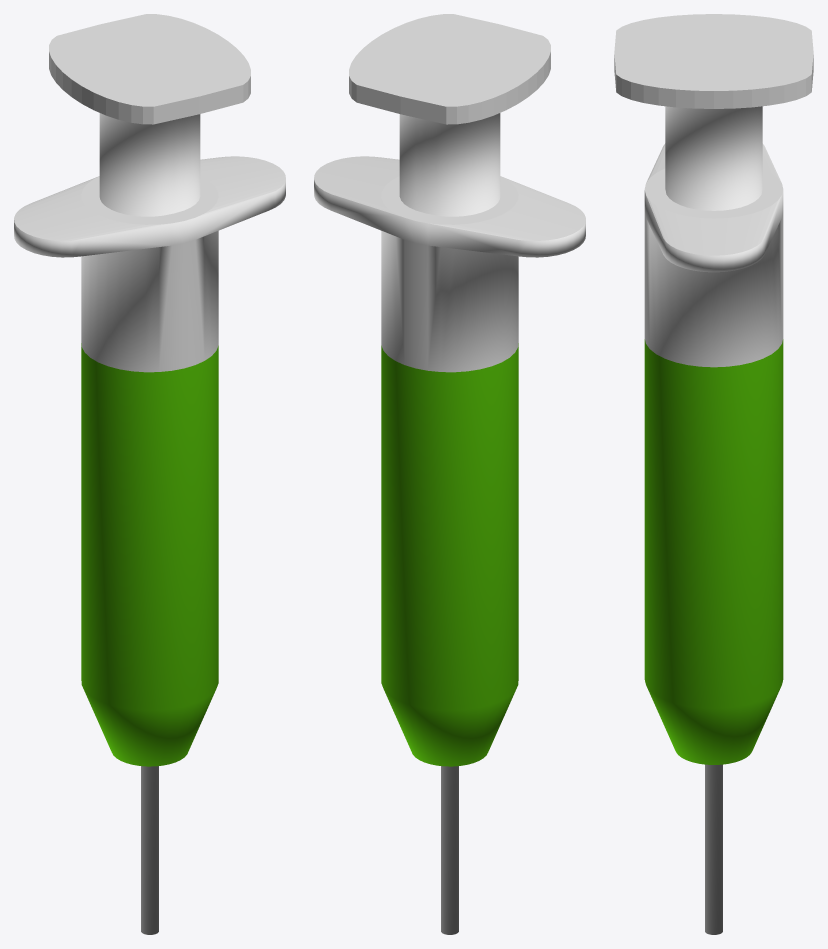
The model's file is Aguja.fbx.
3 renders of one model, left to right at view 1: azimuth 30°, elevation 25°; view 2: azimuth 150°, elevation 25°; view 3: azimuth 270°, elevation 25°, orthographic.
Parts seen in each view (by area): view 1: Cylinder; view 2: Cylinder; view 3: Cylinder.
Part boxes in pixels (x1,y1,x2,y2): Cylinder: [14, 14, 285, 934]; Cylinder: [314, 14, 585, 934]; Cylinder: [614, 14, 813, 934].
Bounding box in the file's own units: 774 × 2491 × 512.
